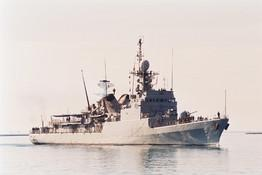warship: (27, 39, 231, 146)
